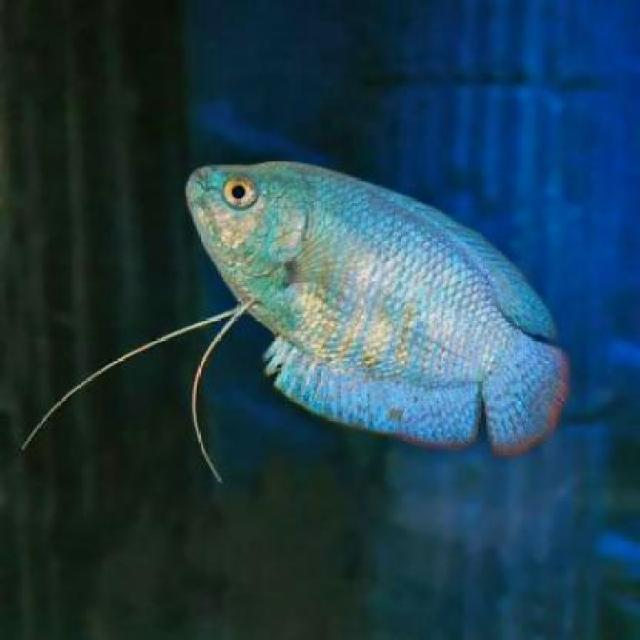Gourami: (184, 157, 576, 455)
